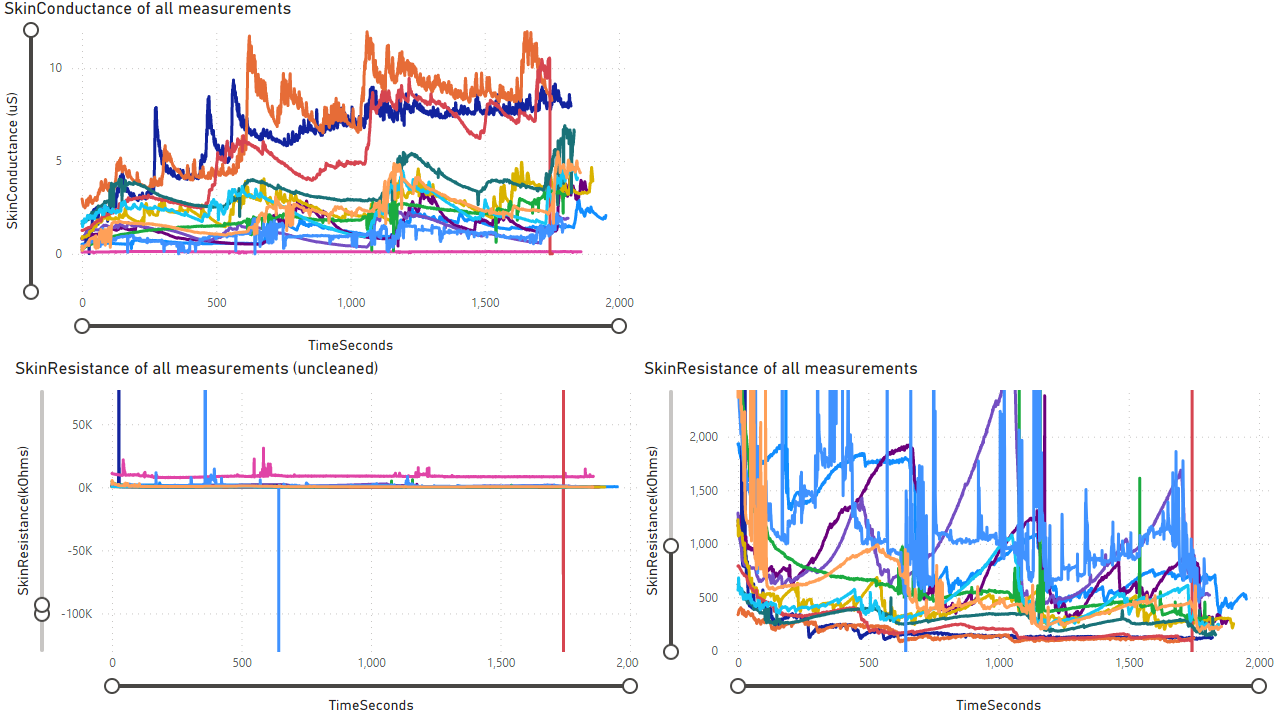

This screenshot's page, from the dashboard's own definition file:
{"tool":"powerbi","page":{"name":"Dashboard","canvas":[1280,720],"ordinal":0},"visuals":[{"type":"lineChart","title":"SkinConductance of all measurements","fields":{"Category":["Sheet1.TimeSeconds"],"Y":["Sum(Sheet1.SkinConductance1)","Sum(Sheet1.SkinConductance2)","Sum(Sheet1.SkinConductance3)","Sum(Sheet1.SkinConductance4)","Sum(Sheet1.SkinConductance5)","Sum(Sheet1.SkinConductance6)","Sum(Sheet1.SkinConductance7)","Sum(Sheet1.SkinConductance8)","Sum(Sheet1.SkinConductance9)","Sum(Sheet1.SkinConductance10)","Sum(Sheet1.SkinConductance11)","Sum(Sheet1.SkinConductance12)"]},"box":[0,0,640,360.2],"z":0},{"type":"lineChart","title":"SkinResistance of all measurements (uncleaned)","fields":{"Category":["Sheet1.TimeSeconds"],"Y":["Sum(Sheet1.SkinResistance1)","Sum(Sheet1.SkinResistance2)","Sum(Sheet1.SkinResistance3)","Sum(Sheet1.SkinResistance4)","Sum(Sheet1.SkinResistance5)","Sum(Sheet1.SkinResistance6)","Sum(Sheet1.SkinResistance7)","Sum(Sheet1.SkinResistance8)","Sum(Sheet1.SkinResistance9)","Sum(Sheet1.SkinResistance10)","Sum(Sheet1.SkinResistance11)","Sum(Sheet1.SkinResistance12)"]},"box":[11.3,360.2,640,360.2],"z":1000},{"type":"lineChart","title":"SkinResistance of all measurements","fields":{"Category":["Sheet1.TimeSeconds"],"Y":["Sum(Sheet1.SkinResistance1)","Sum(Sheet1.SkinResistance2)","Sum(Sheet1.SkinResistance3)","Sum(Sheet1.SkinResistance4)","Sum(Sheet1.SkinResistance5)","Sum(Sheet1.SkinResistance6)","Sum(Sheet1.SkinResistance7)","Sum(Sheet1.SkinResistance8)","Sum(Sheet1.SkinResistance9)","Sum(Sheet1.SkinResistance10)","Sum(Sheet1.SkinResistance11)","Sum(Sheet1.SkinResistance12)"]},"box":[640,360.2,640,360.2],"z":2000}]}

Visuals, with their boxes in screenshot pixels (x1, y1, x2, y2), scaled from the page's 1280x720 canvas onto the 1277x718 screenshot:
"SkinConductance of all measurements" lineChart: region(0, 0, 638, 359)
"SkinResistance of all measurements (uncleaned)" lineChart: region(11, 359, 650, 717)
"SkinResistance of all measurements" lineChart: region(638, 359, 1276, 717)
